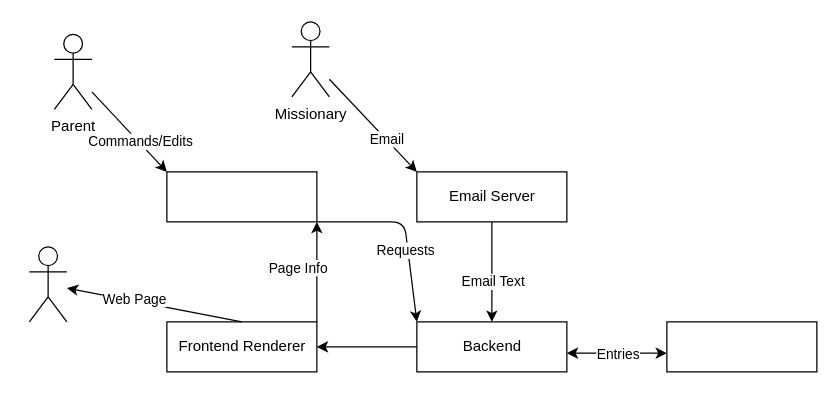
The diagram is 839 pixels wide and 394 high, and some of its shapes have lost their labels. The shapes that lost their labels are listed below. From the top down, each one's centre as x and y in pixels, then its label:
At (x=241, y=196): "Control Panel".
At (x=47, y=284): "Website Visitor".
At (x=741, y=346): "Database".
